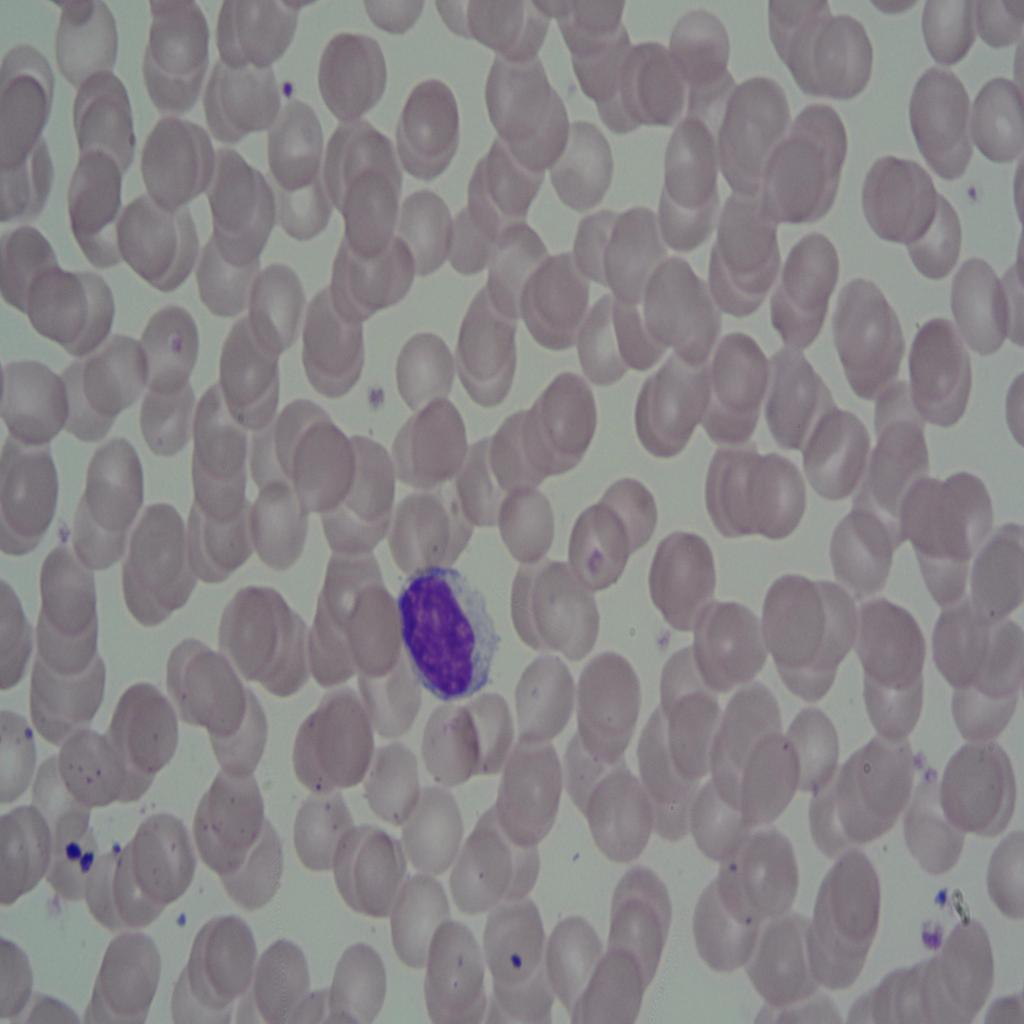Myeoblast: (390, 552, 504, 708)
Platelet: (268, 63, 310, 115), (927, 869, 955, 930), (498, 934, 527, 992), (80, 845, 102, 891), (364, 366, 385, 408), (64, 830, 83, 862)
